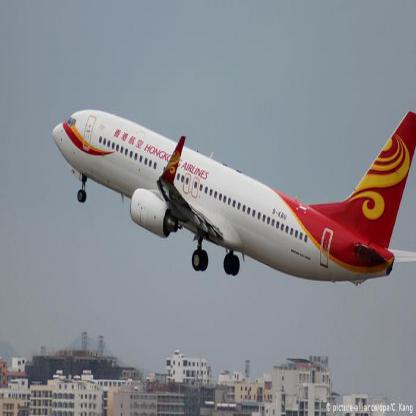CIV_Plane: (48, 100, 415, 308)
